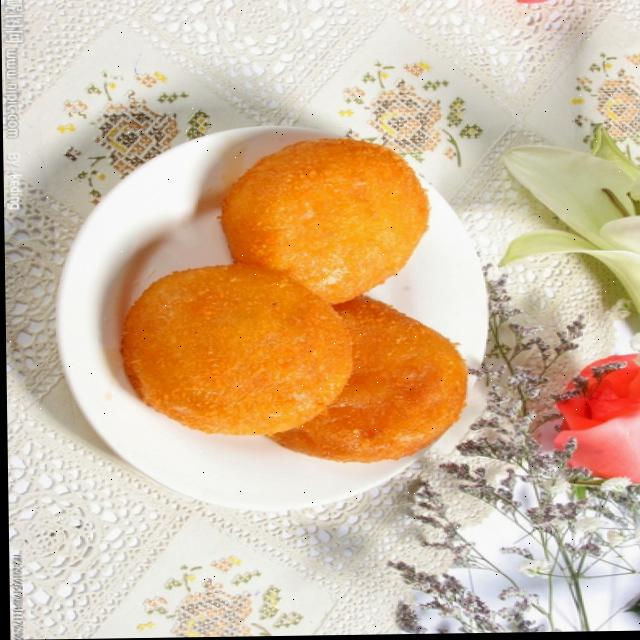炸货点心: (92, 116, 484, 498)
蛋糕甜品: (92, 116, 484, 498)
